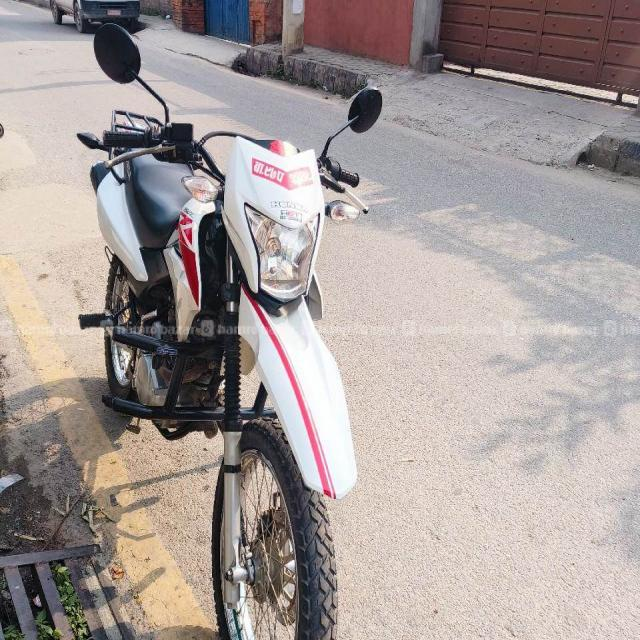License-plate: (244, 155, 317, 195)
